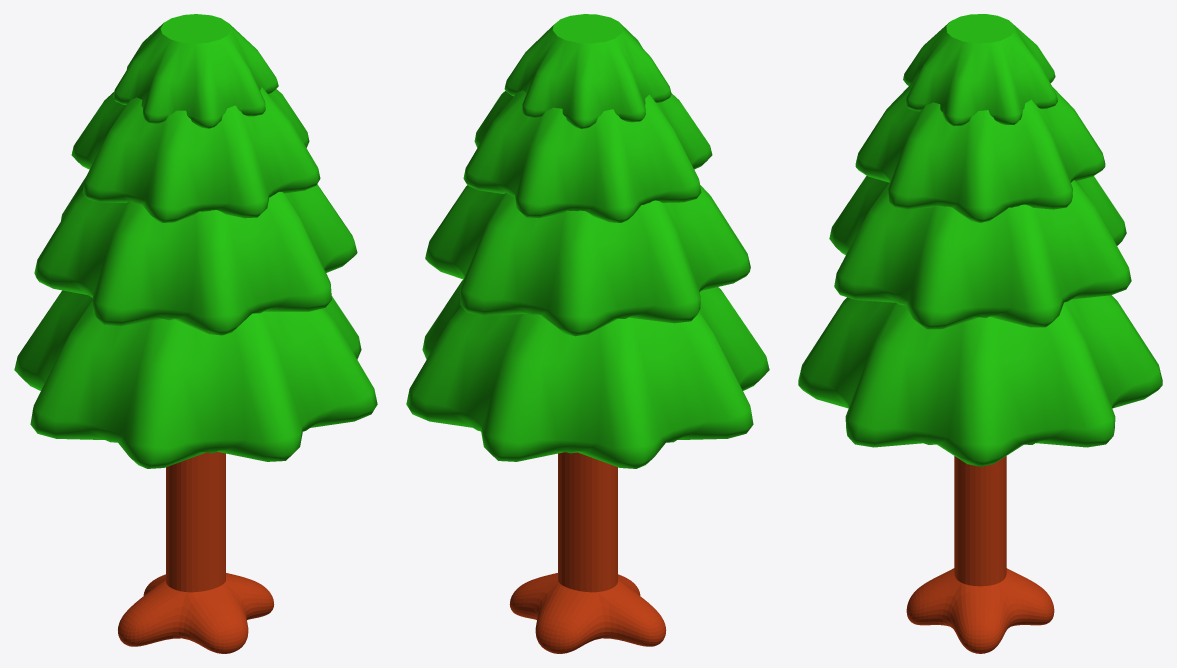
File: tree03.fbx
3 views of the same model, side by side, from view 1: azimuth 30°, elevation 25°; view 2: azimuth 150°, elevation 25°; view 3: azimuth 270°, elevation 25° (orthographic).
Parts seen in each view (by area): view 1: Cone.001, 立方体.001; view 2: Cone.001, 立方体.001; view 3: Cone.001, 立方体.001.
Part boxes in pixels (x1=…): Cone.001: x1=14, y1=14, x2=377, y2=468; 立方体.001: x1=118, y1=452, x2=274, y2=653; Cone.001: x1=406, y1=14, x2=769, y2=468; 立方体.001: x1=509, y1=452, x2=666, y2=653; Cone.001: x1=798, y1=14, x2=1162, y2=466; 立方体.001: x1=906, y1=456, x2=1054, y2=653.
Size of the model in its own units: 942 by 1664 by 926.
